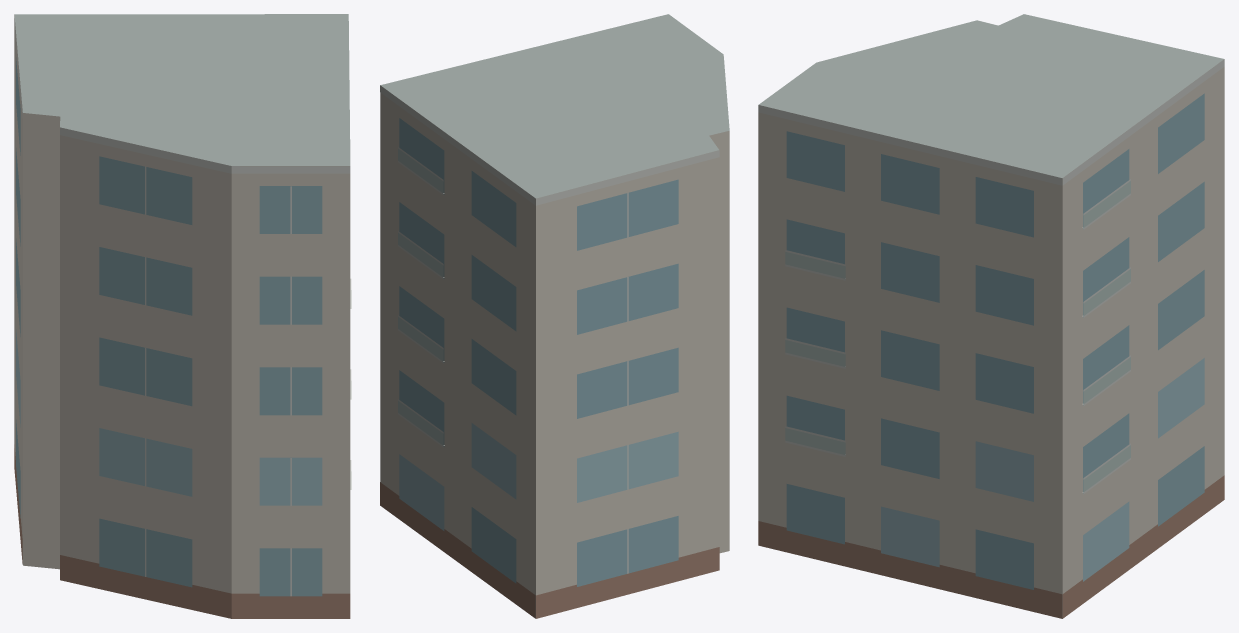
The model's file is survey-upis-33011192.glb.
3 renders of one model, left to right at view 1: azimuth 30°, elevation 25°; view 2: azimuth 150°, elevation 25°; view 3: azimuth 270°, elevation 25°, orthographic. The views are drawn at different scales.
Visible parts, largest first — view 1: survey-upis-33011192.tmp; view 2: survey-upis-33011192.tmp; view 3: survey-upis-33011192.tmp.
Part boxes in pixels (bbox=[...]): survey-upis-33011192.tmp: bbox=[14, 14, 351, 618]; survey-upis-33011192.tmp: bbox=[380, 14, 729, 618]; survey-upis-33011192.tmp: bbox=[758, 14, 1224, 618].
Bounding box in the file's own units: 11.43 × 14.3 × 13.72.
